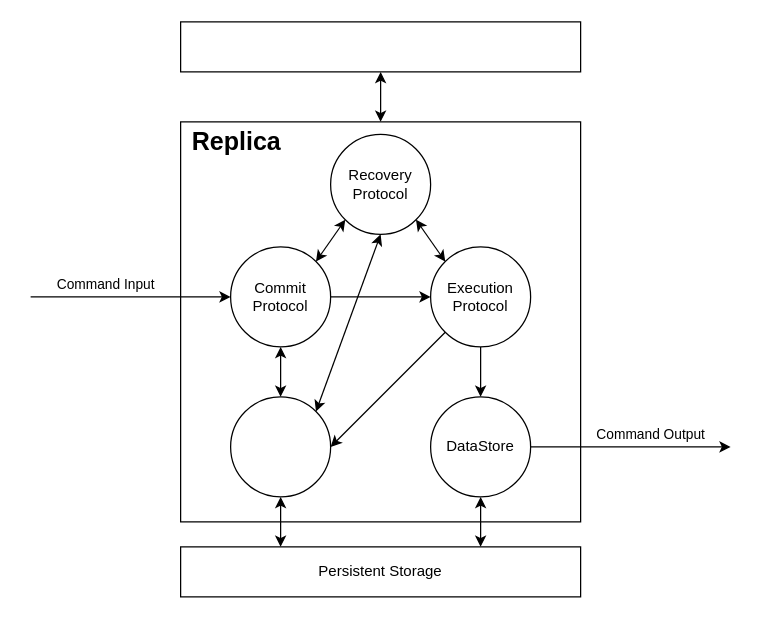
This 763x619 diagram has some shape labels left out. Here are the shapes that lost their labels. From the top down, the centre of each, then its label:
At (x=380, y=46): "Network".
At (x=280, y=446): "LogStore".
